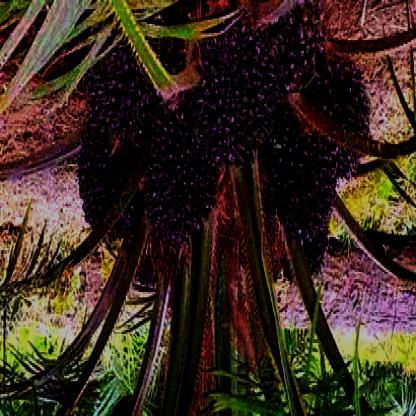palm-oil: (77, 15, 163, 135), (146, 106, 215, 246), (263, 117, 336, 241), (306, 67, 380, 182), (70, 140, 143, 254), (256, 2, 326, 108), (195, 95, 275, 171), (206, 7, 252, 98), (277, 232, 334, 288)
